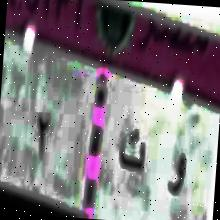2: (34, 102, 52, 166)
taa: (113, 122, 150, 186)
waw: (162, 143, 190, 207)
